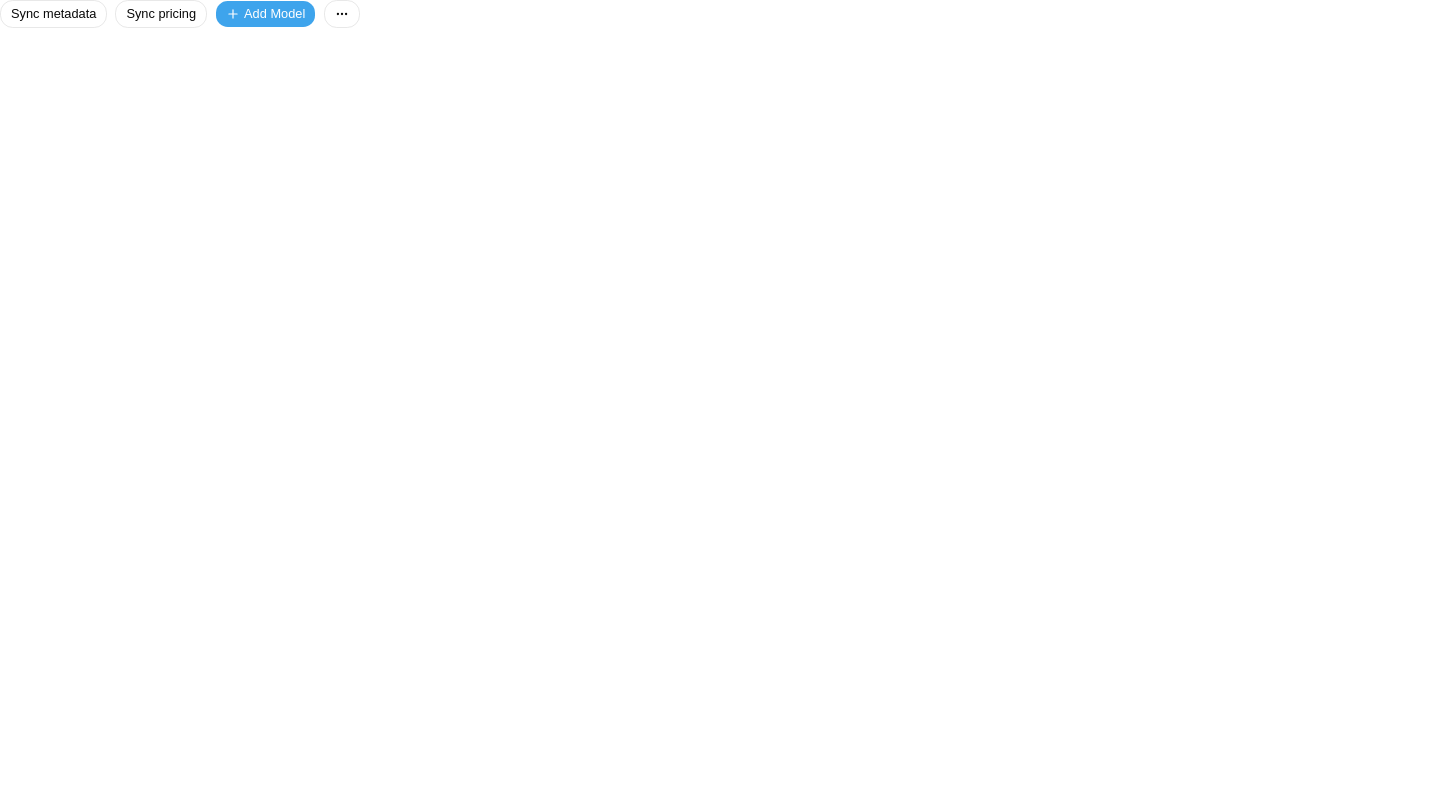
keeps the page quiet when the list fails and shows the error in the dialog
Expected: the button "Add Model" is shown, [215, 0, 316, 28]
Expected: the button "Without tariff" is not shown
Step 1. Click the button named "Open menu" → [342, 14], box [324, 0, 360, 28]
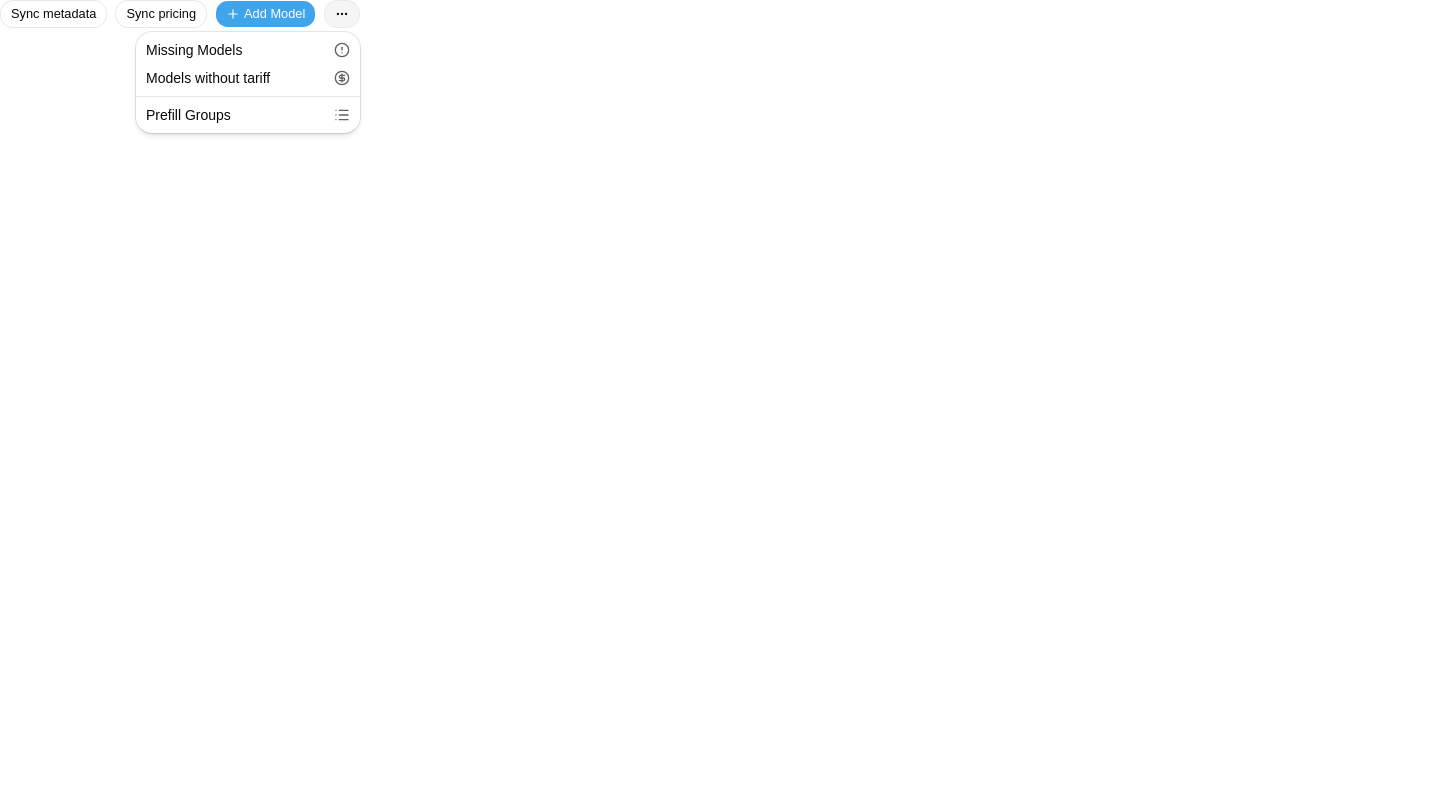
Step 2. Click the menu item "Models without tariff" → [248, 78], box [146, 70, 350, 86]
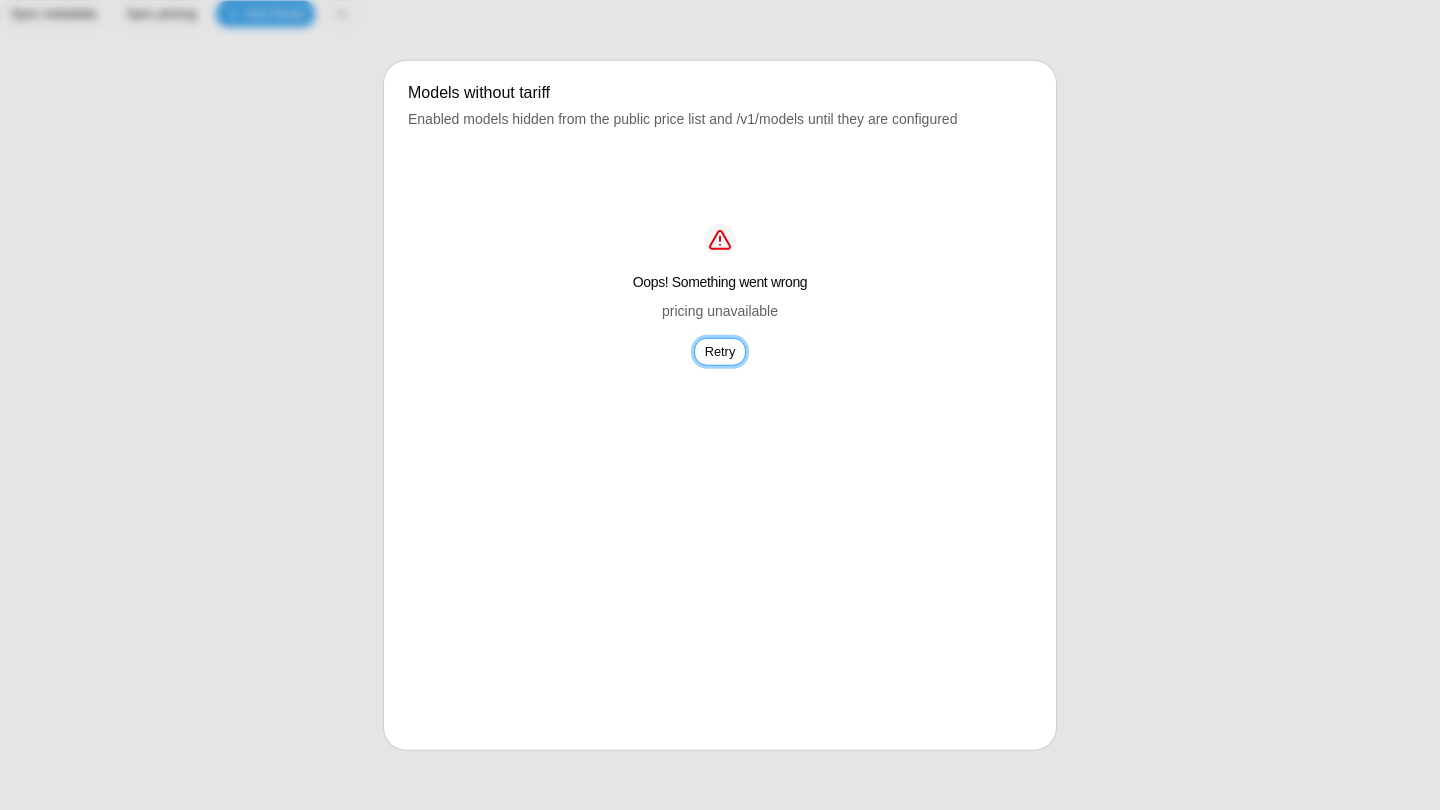
Expected: the text "pricing unavailable" is shown, [662, 299, 778, 322]
